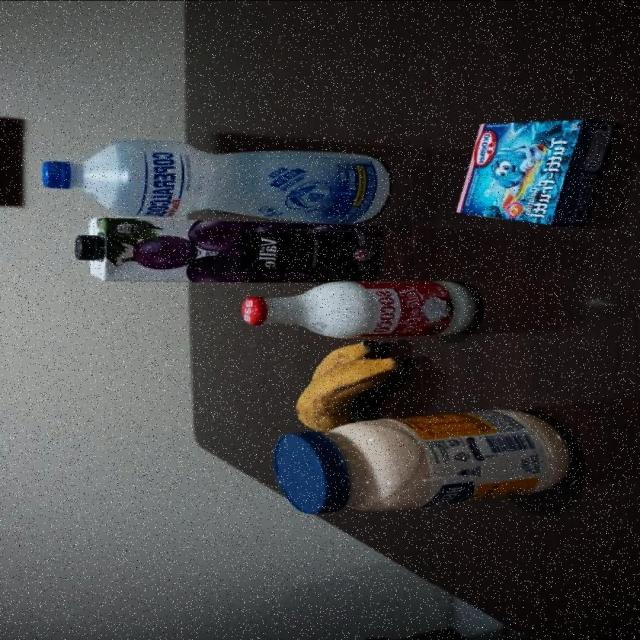AlcoholBottle: (41, 142, 390, 224)
Banana: (288, 339, 422, 415)
CoconutMilk: (243, 284, 477, 335)
Gelatine: (453, 114, 621, 228)
Mayonnaise: (277, 414, 569, 513)
